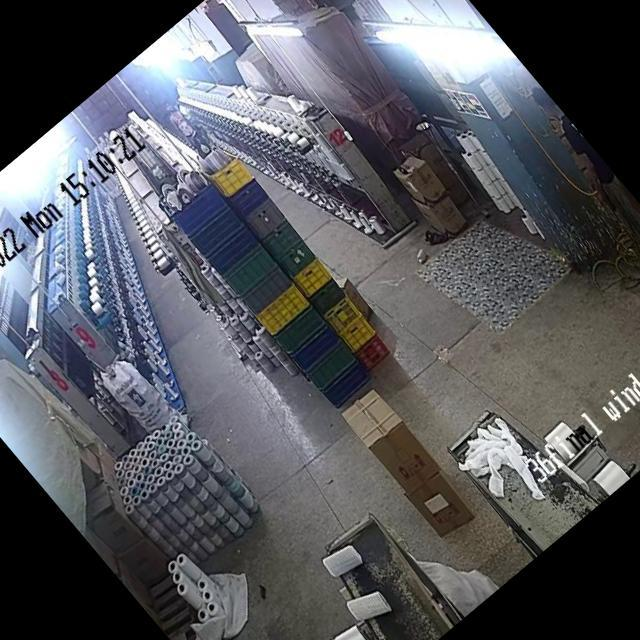person: (158, 96, 206, 150)
